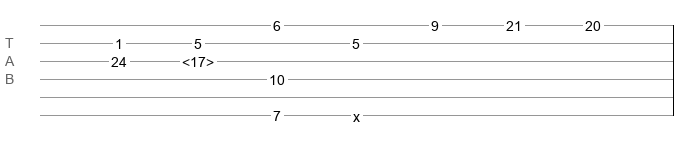1: (115, 36, 123, 46)
10: (269, 72, 285, 82)
20: (585, 18, 601, 28)
21: (506, 18, 522, 28)
24: (111, 54, 127, 64)
5: (194, 36, 202, 46), (352, 36, 360, 46)
6: (273, 18, 281, 28)
7: (273, 108, 281, 118)
9: (431, 18, 439, 28)
harmonic: (182, 54, 214, 64)
x: (353, 109, 360, 117)
